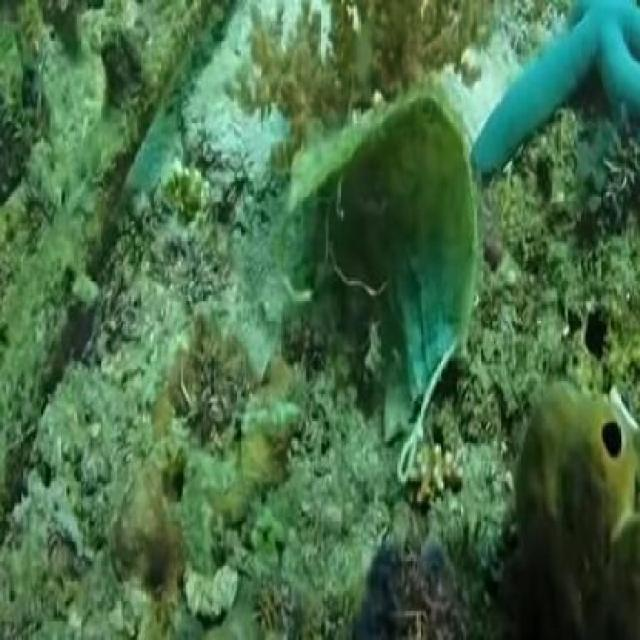Mask: (281, 92, 479, 486)
